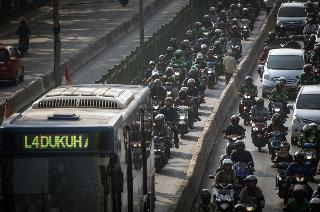mobil: (0, 78, 156, 212), (261, 40, 305, 96), (292, 78, 320, 154), (276, 4, 310, 36)
motor: (156, 107, 172, 165), (217, 158, 233, 212), (229, 114, 251, 152), (270, 82, 288, 126), (175, 88, 189, 138), (275, 141, 291, 181), (204, 51, 220, 91), (254, 96, 266, 147), (293, 157, 311, 191), (160, 63, 174, 105), (229, 30, 245, 63), (244, 175, 260, 207), (270, 110, 282, 148), (242, 72, 252, 114), (312, 44, 320, 76)
